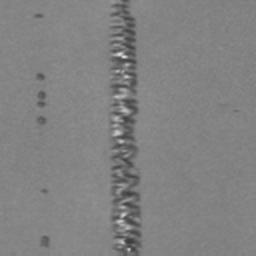Slag inclusion: (111, 98, 142, 256), (110, 0, 138, 95), (37, 91, 46, 107), (41, 236, 50, 247), (37, 116, 47, 125), (36, 73, 45, 81)
